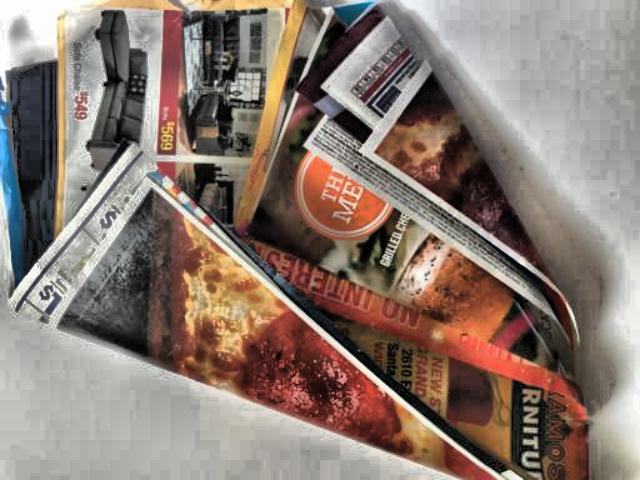Paper: (8, 0, 595, 480)
